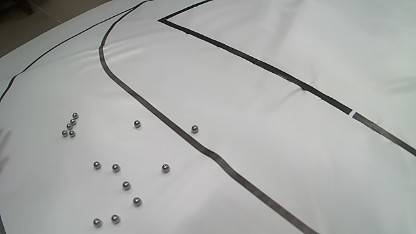ironball: (92, 218, 102, 227), (111, 214, 120, 224), (132, 197, 142, 206), (161, 164, 170, 173), (93, 161, 101, 170), (122, 181, 130, 190), (133, 120, 141, 128), (112, 164, 119, 172), (191, 125, 198, 133), (68, 130, 76, 137), (61, 130, 68, 137), (66, 123, 73, 130), (69, 118, 76, 125), (72, 112, 78, 119)
